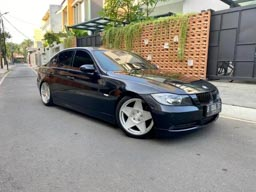plat: (208, 97, 221, 117)
